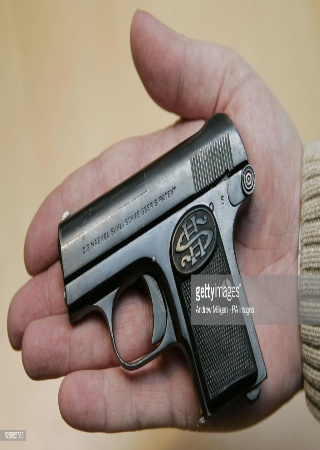handgun: (57, 111, 269, 418)
